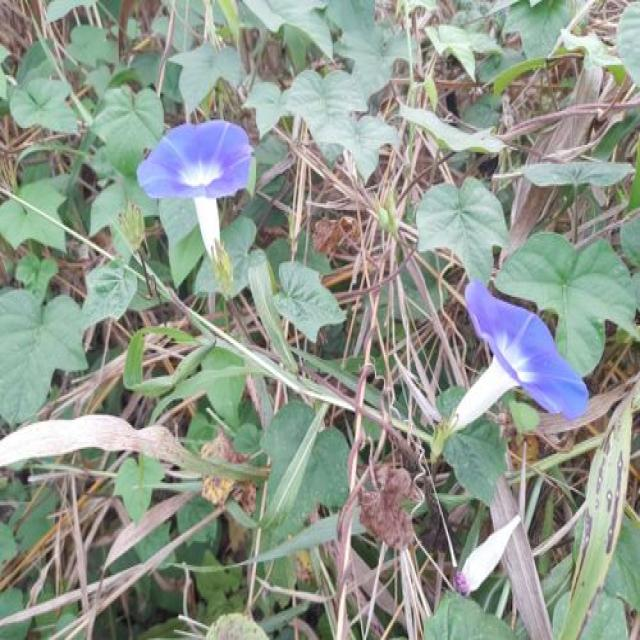ipomoea: (443, 275, 591, 442), (133, 114, 257, 270)
